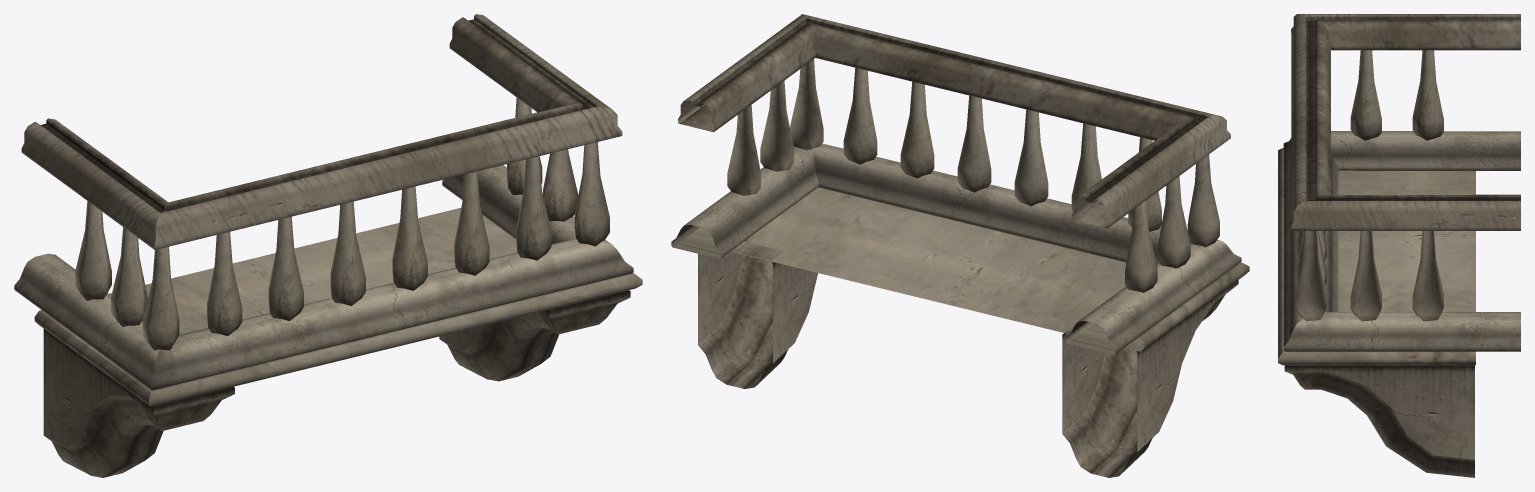
The model's file is exterior_walls_balcony.DAE.
3 views of the same model, side by side, from view 1: azimuth 30°, elevation 25°; view 2: azimuth 150°, elevation 25°; view 3: azimuth 270°, elevation 25° (orthographic). The views are drawn at different scales.
Parts seen in each view (by area): view 1: Object009; view 2: Object009; view 3: Object009.
Boxes of the visible parts, x1,y1,x2,y2 form: Object009: [14, 14, 642, 477]; Object009: [671, 14, 1249, 477]; Object009: [1278, 14, 1520, 477].
Size of the model in its own units: 3.99 by 2.51 by 1.96.
